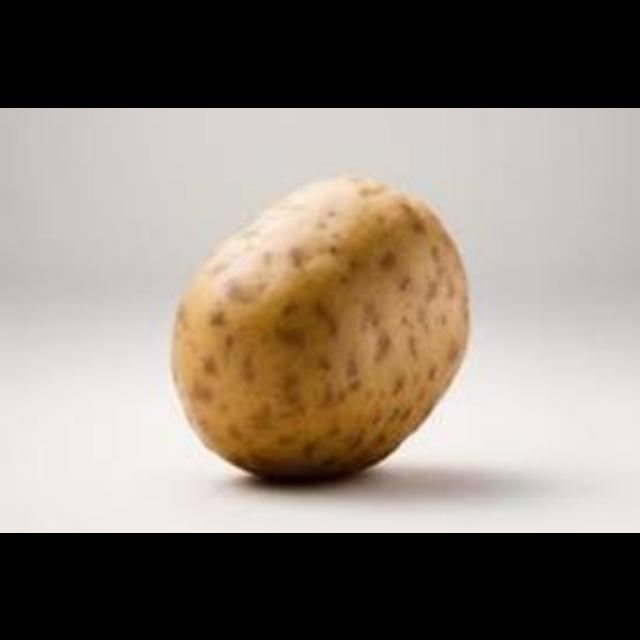Diseased-fungal potato: (129, 172, 479, 474)
